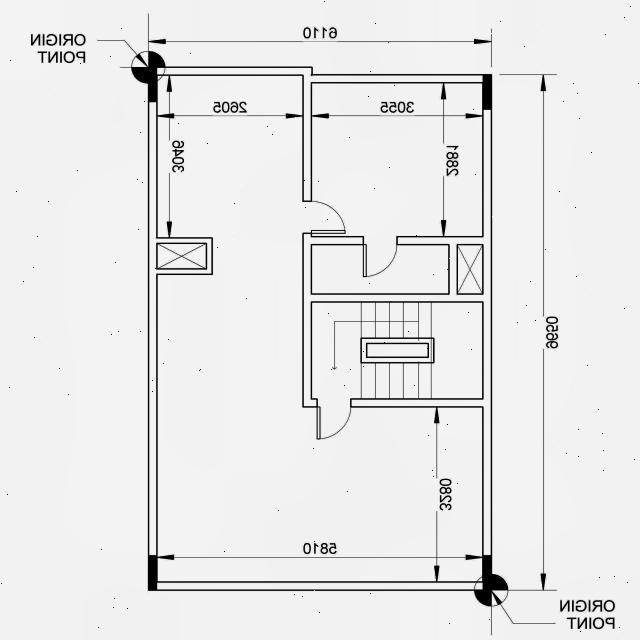Column: (482, 73, 492, 109), (147, 67, 157, 103), (147, 556, 157, 590), (482, 556, 492, 590)
Door: (361, 236, 397, 280), (300, 202, 346, 236), (316, 400, 351, 442)
Staircase: (312, 304, 482, 399)
